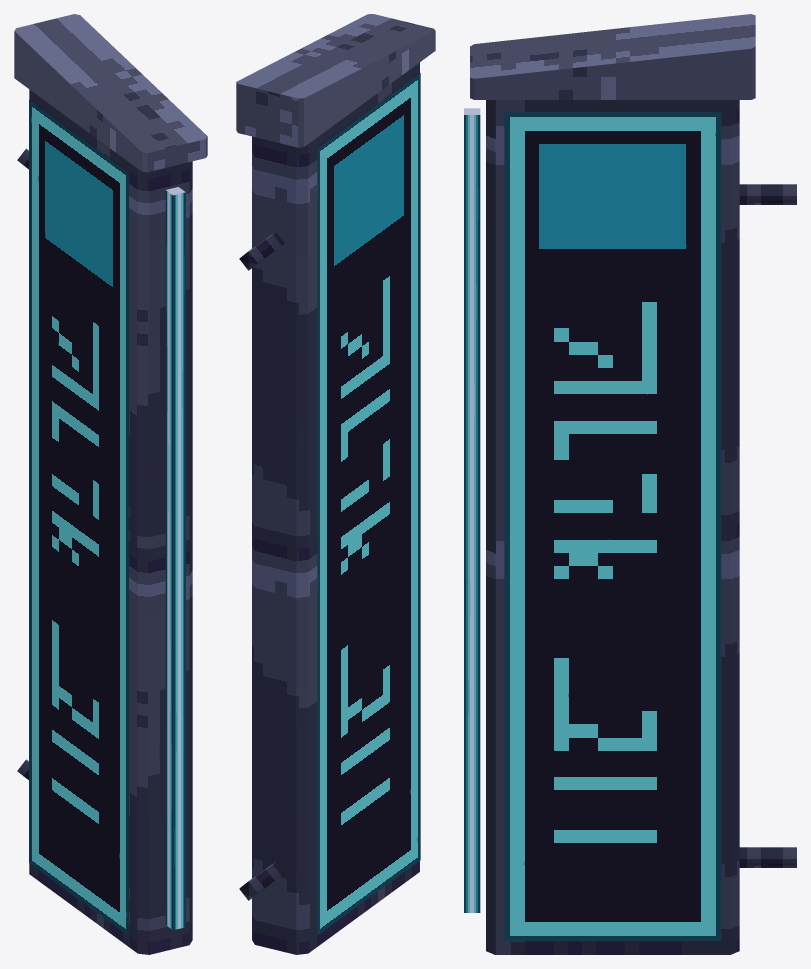
The model's file is cysign.blade.glb.
The picture shows the model from 3 angles, left to right: view 1: azimuth 30°, elevation 25°; view 2: azimuth 150°, elevation 25°; view 3: azimuth 270°, elevation 25°; orthographic projection. The views are drawn at different scales.
Parts seen in each view (by area): view 1: kit_card_faces, kit_blade, kit_brackets; view 2: kit_card_faces, kit_blade, kit_brackets; view 3: kit_card_faces, kit_blade, kit_brackets.
Part boxes in pixels (x1,y1,x2,y2): kit_card_faces: (29, 100, 128, 935); kit_blade: (14, 14, 207, 954); kit_brackets: (17, 148, 185, 930); kit_card_faces: (317, 73, 420, 935); kit_blade: (236, 14, 435, 954); kit_brackets: (239, 231, 284, 900); kit_card_faces: (504, 112, 721, 940); kit_blade: (470, 14, 755, 954); kit_brackets: (464, 108, 796, 912).
Bounding box in the file's own units: 0.36 × 4.39 × 1.46.
5 materials, 5 textured.
